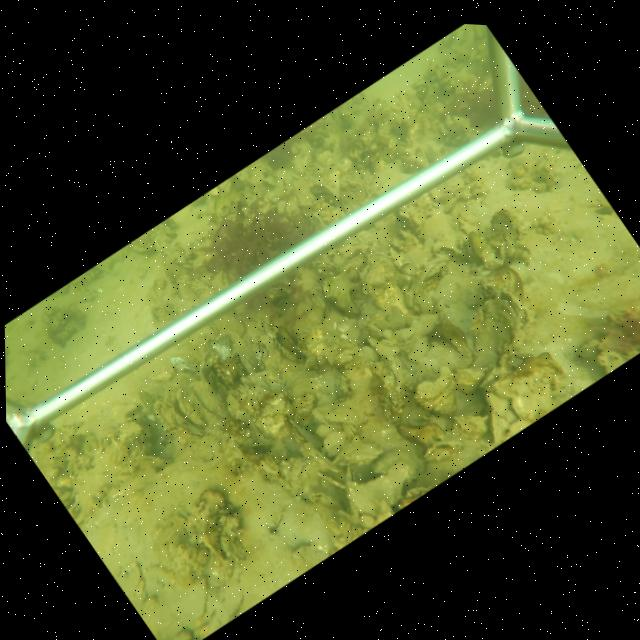Oyster-Closed: (413, 365, 458, 415), (378, 355, 405, 420), (186, 377, 225, 419), (410, 256, 448, 297), (310, 400, 370, 425), (421, 438, 462, 463), (484, 391, 508, 418), (487, 410, 504, 446), (386, 313, 403, 329), (367, 323, 382, 338), (374, 317, 391, 328), (406, 313, 420, 323)
Oyster-Indeterminate: (346, 458, 416, 523), (359, 249, 407, 310), (175, 274, 210, 300), (340, 247, 366, 269), (375, 342, 400, 358)
Oyster-Open: (477, 287, 531, 327), (169, 393, 206, 436), (313, 259, 337, 273)
